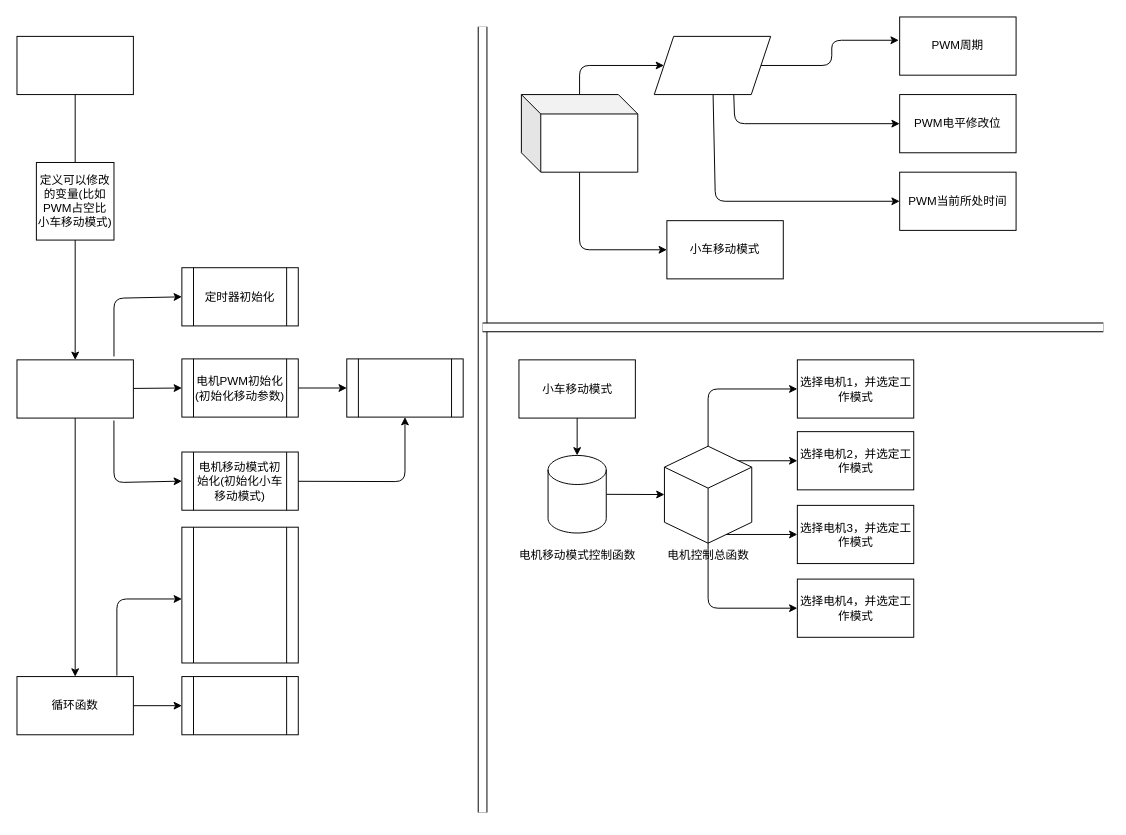
The diagram is 1126 pixels wide and 835 high, and some of its shapes have lost their labels. Each missing label, with the box of its shape:
PWM相关: (653, 35, 771, 95)
上电开机: (16, 35, 133, 95)
单遍函数: (16, 359, 133, 418)
对小车电机进行控制: (181, 676, 298, 735)
对小车进行循环检测，主要控制来源于灰度 同时需要和树莓盘进行串口通讯，他的优先级大于灰度: (181, 526, 298, 663)
对电机的结构体进行定义和赋值: (346, 358, 463, 417)
电机控制结构体: (520, 94, 638, 172)
